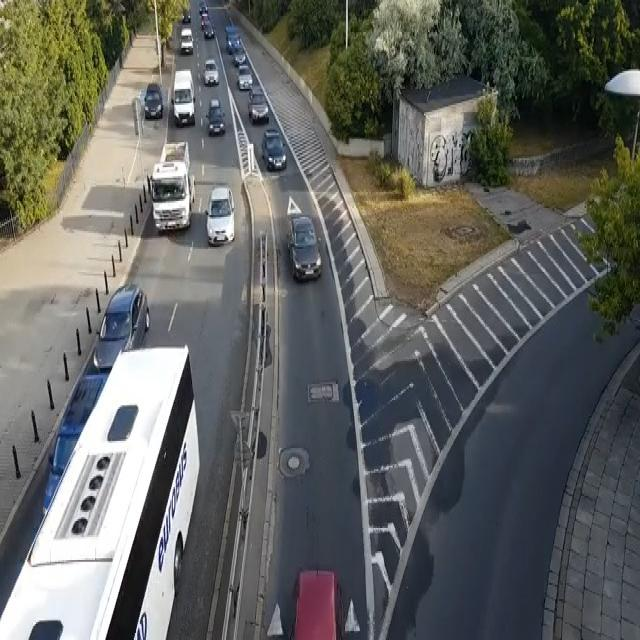bus: (2, 342, 204, 640)
car: (42, 377, 116, 520), (92, 281, 153, 375), (290, 566, 344, 640), (287, 214, 321, 282), (206, 186, 235, 246), (172, 71, 194, 128), (261, 126, 286, 174), (246, 82, 270, 128), (141, 79, 163, 126), (206, 97, 227, 140), (177, 22, 195, 56), (202, 59, 220, 87), (224, 24, 241, 52), (231, 40, 247, 68), (238, 66, 252, 90), (202, 21, 214, 39), (198, 0, 209, 15)
truck: (151, 146, 194, 232)
